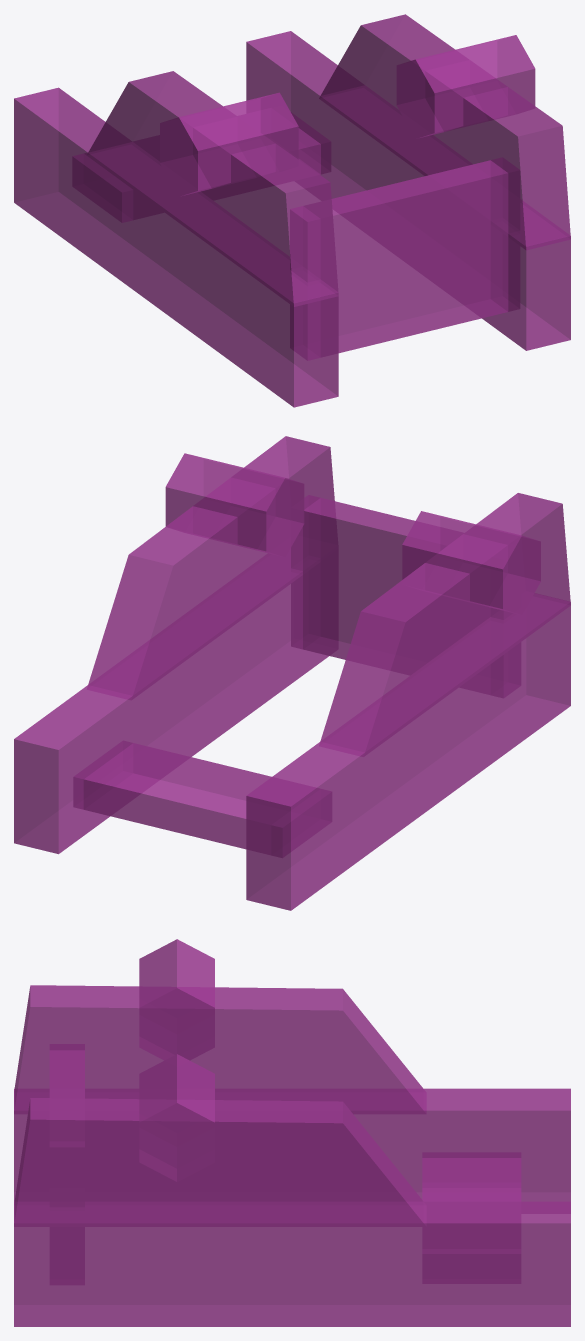
The model's file is SM_Wep_Cannon_01_Collision.fbx.
3 renders of one model, top to bottom at view 1: azimuth 30°, elevation 25°; view 2: azimuth 150°, elevation 25°; view 3: azimuth 270°, elevation 25°, orthographic.
Parts seen in each view (by area): view 1: SM_Wep_Cannon_01_Collision; view 2: SM_Wep_Cannon_01_Collision; view 3: SM_Wep_Cannon_01_Collision.
Part boxes in pixels (left/top/right/bottom): SM_Wep_Cannon_01_Collision: left=14, top=14, right=570, bottom=407; SM_Wep_Cannon_01_Collision: left=14, top=436, right=570, bottom=910; SM_Wep_Cannon_01_Collision: left=14, top=939, right=570, bottom=1326.
Size of the model in its own units: 102 by 69.18 by 147.
